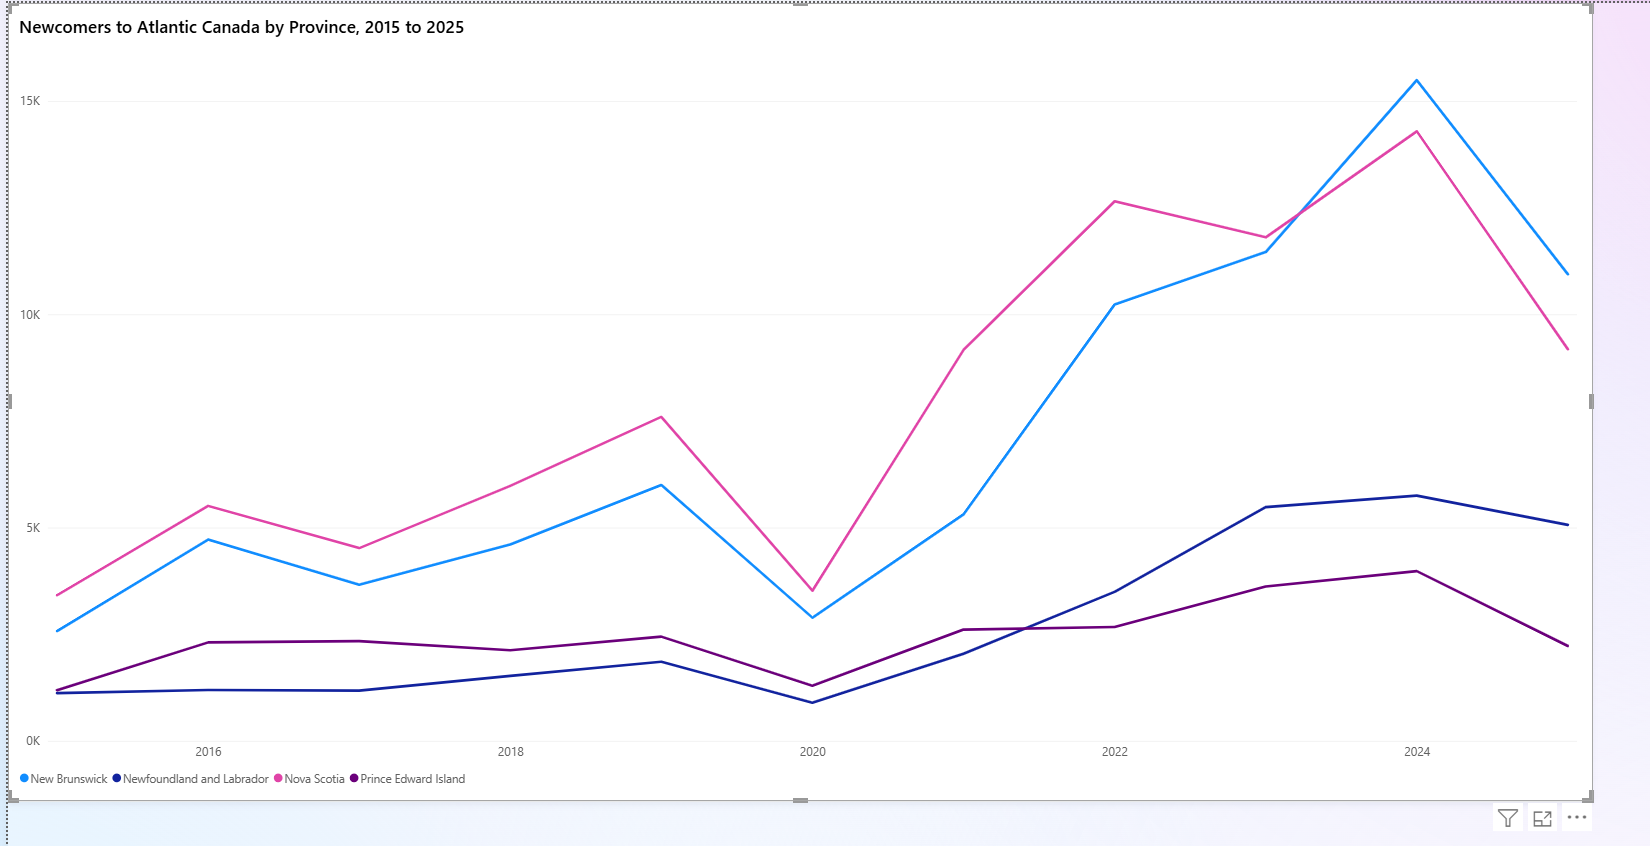

What the dashboard file says about the page in this screenshot:
{"tool":"powerbi","page":{"name":"Page 2","canvas":[1920,1080],"ordinal":1},"visuals":[{"type":"lineChart","title":"Newcomers to Atlantic Canada by Province, 2015 to 2025","fields":{"Category":["Atlantic Admissions.Attribute"],"Series":["Atlantic Admissions.Province"],"Y":["Atlantic Admissions.Atlantic Admissions"]},"box":[0,0,1837.7,926.1],"z":0}]}

Visuals, with their boxes on the page's 1920x1080 design canvas (x1, y1, x2, y2). These are canvas units, not pixel positions in the 1650x846 screenshot, which may show the page scaled, cropped or inside an application window:
"Newcomers to Atlantic Canada by Province, 2015 to 2025" lineChart: x1=0 y1=0 x2=1838 y2=926
